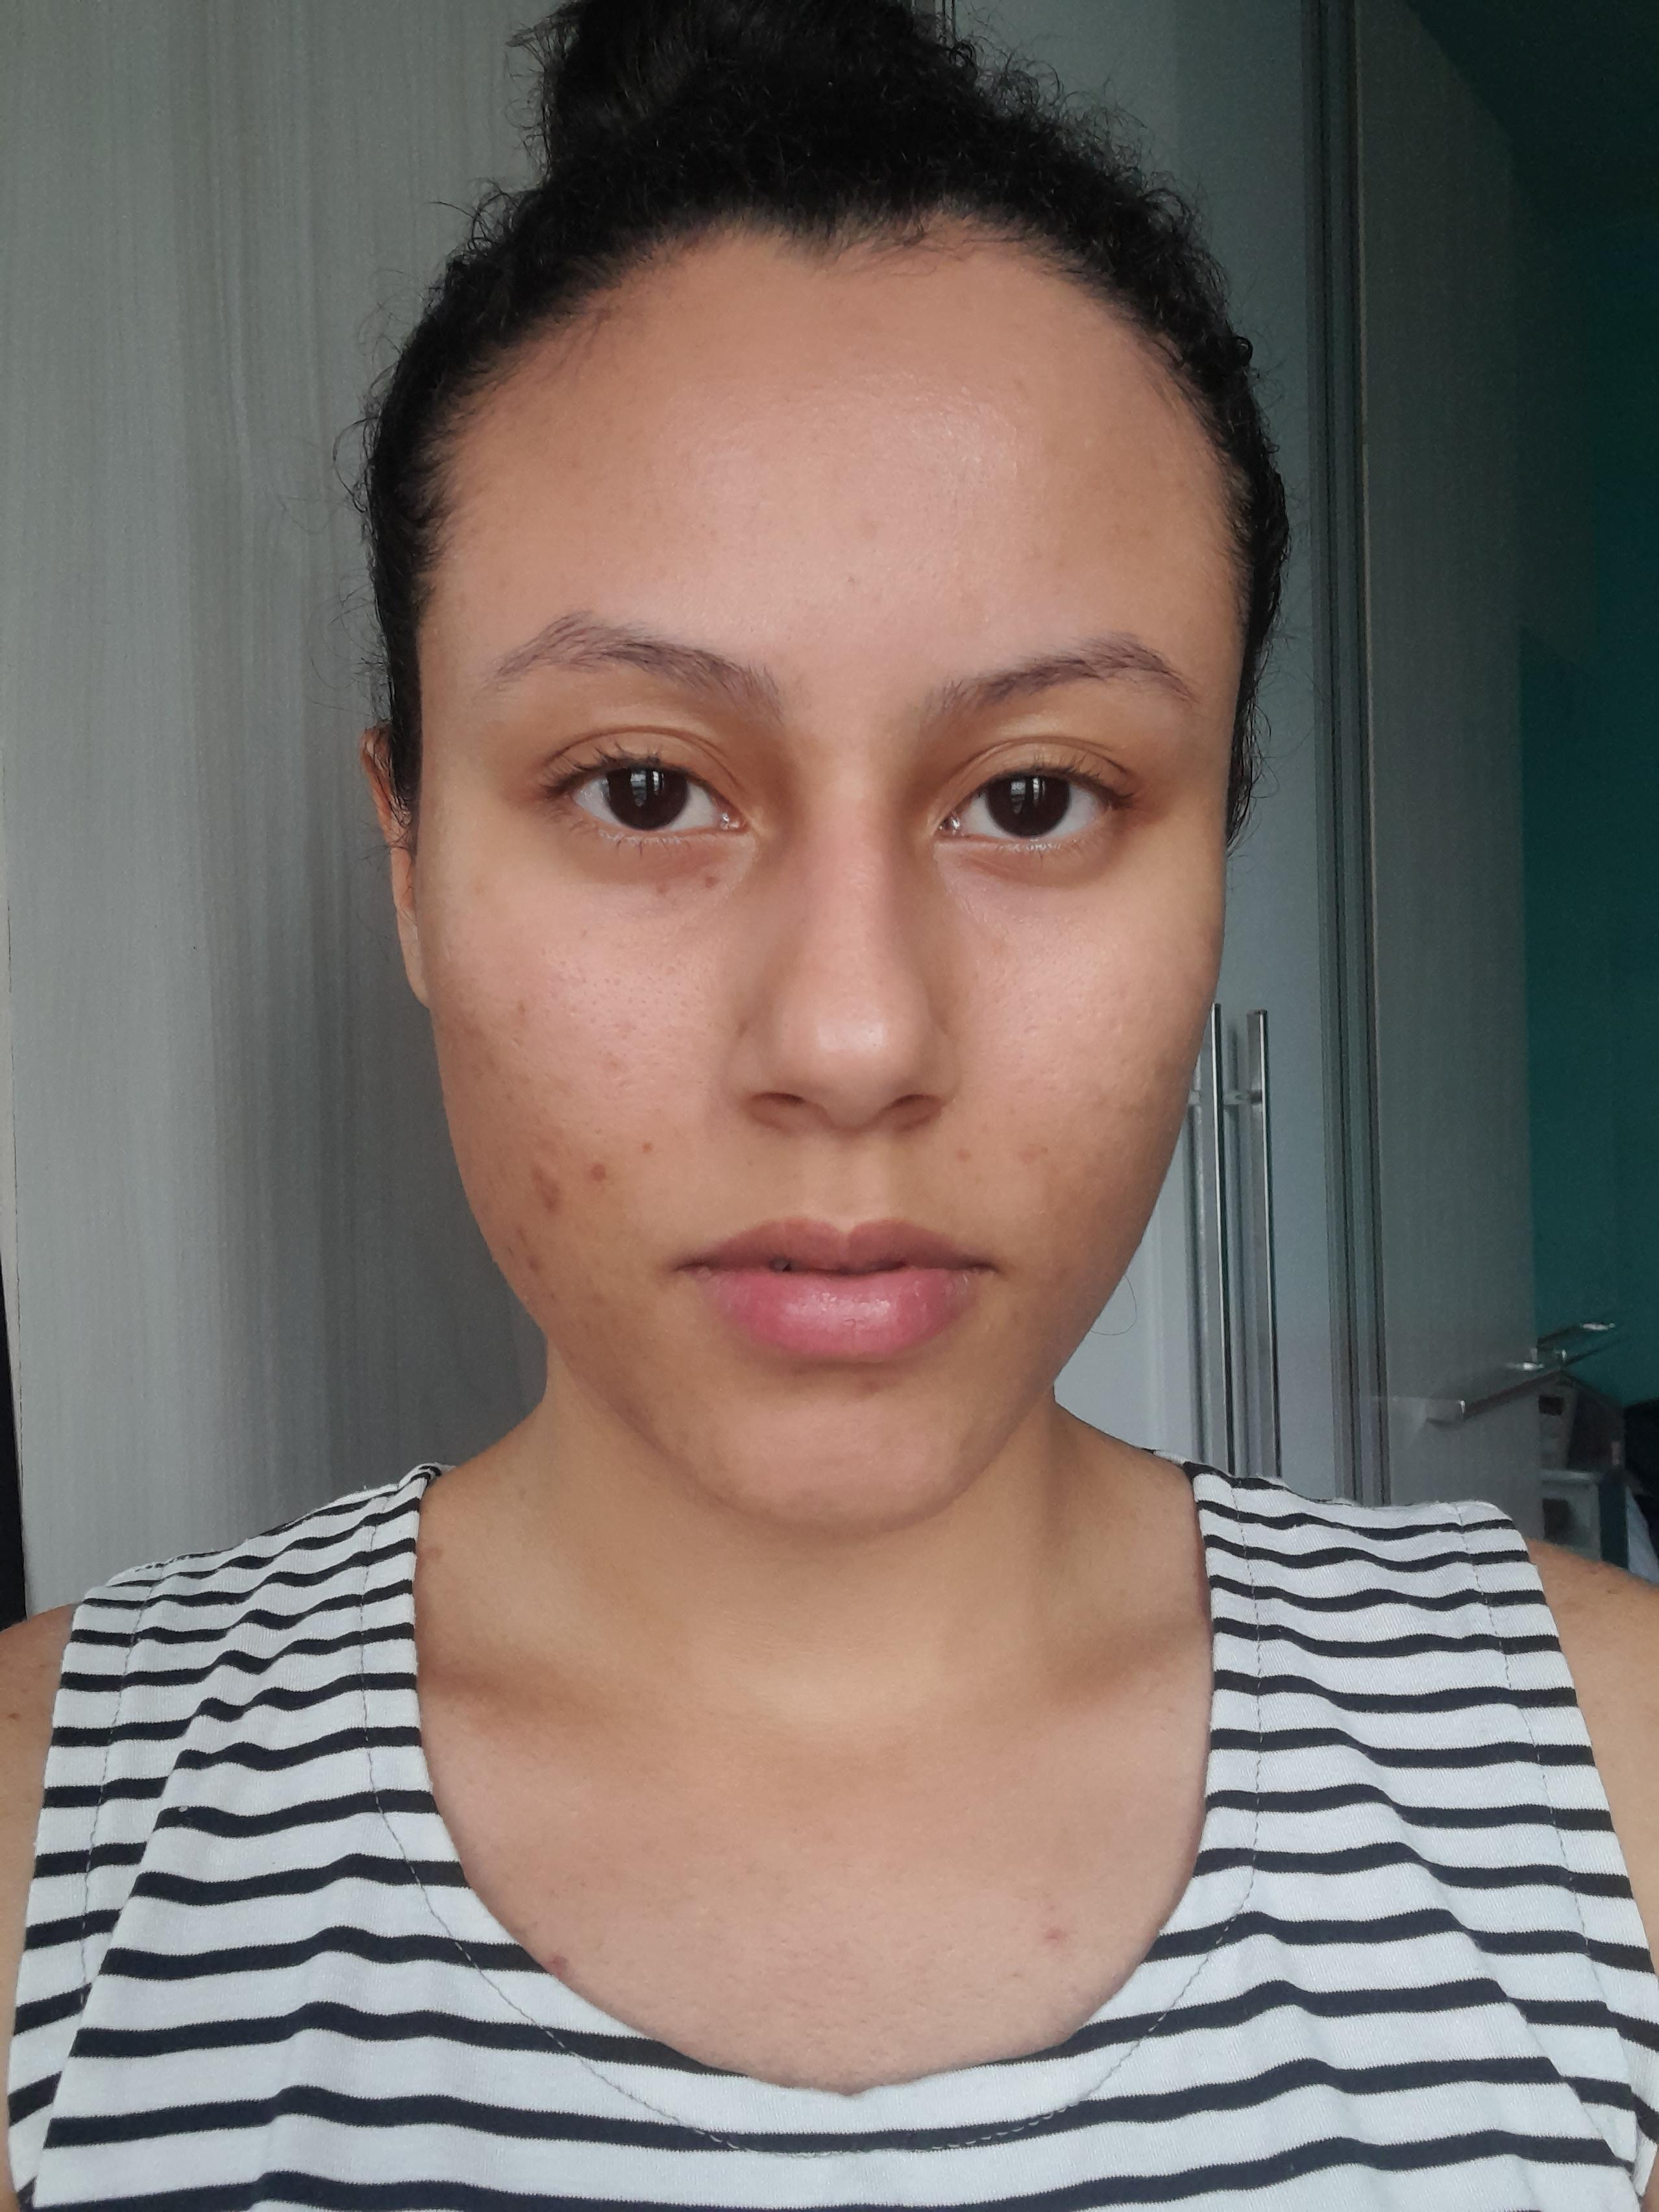Acne: (518, 1162, 568, 1209), (1016, 1132, 1058, 1176), (507, 1228, 542, 1277), (1124, 1094, 1159, 1130), (601, 1054, 634, 1085), (946, 1148, 985, 1174), (634, 1132, 664, 1165), (854, 1379, 890, 1402), (840, 570, 863, 604), (1047, 1258, 1073, 1287), (589, 1289, 615, 1318), (474, 1049, 502, 1073), (1006, 1305, 1030, 1331), (586, 1157, 613, 1179), (582, 1115, 610, 1137), (512, 995, 533, 1024), (782, 1364, 810, 1383)
Englarged-Pores: (558, 949, 718, 1047), (983, 948, 1114, 1049)
